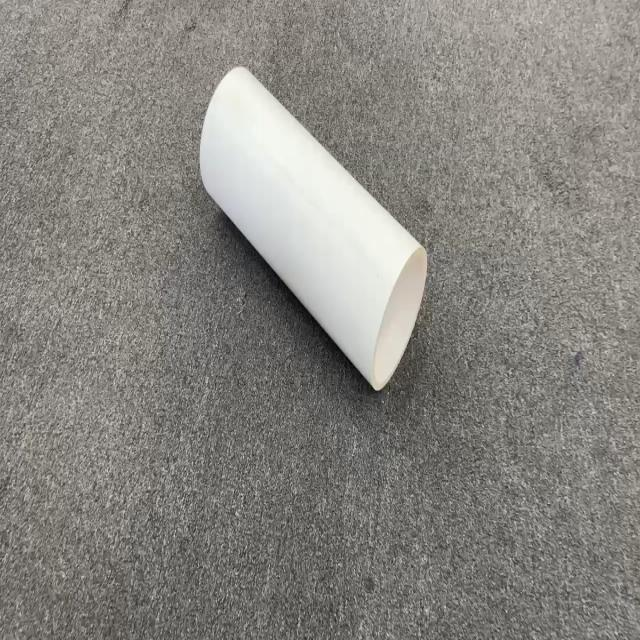coral: (198, 63, 428, 393)
